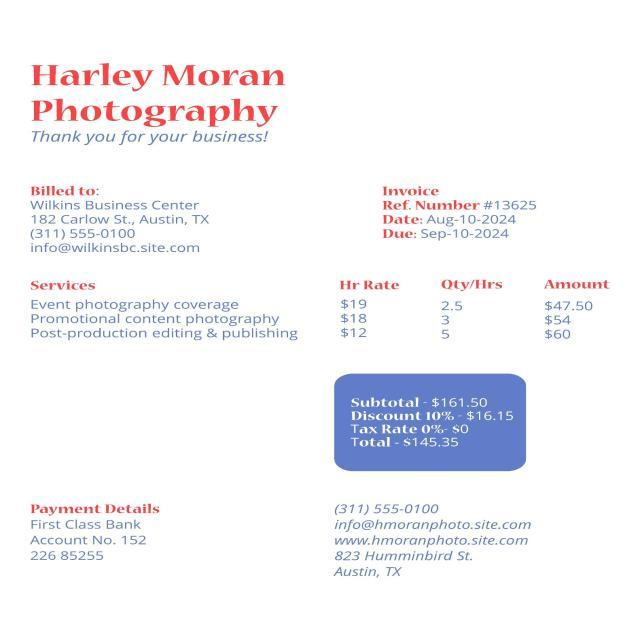ROI: (21, 270, 630, 350), (315, 367, 541, 483), (23, 58, 292, 148), (322, 493, 540, 588), (23, 181, 240, 263), (352, 179, 566, 253), (15, 494, 178, 570)
